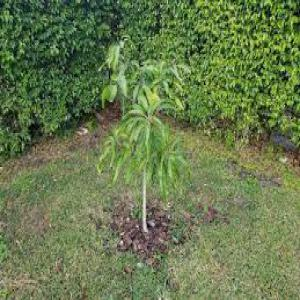Tree: (100, 32, 192, 244)
